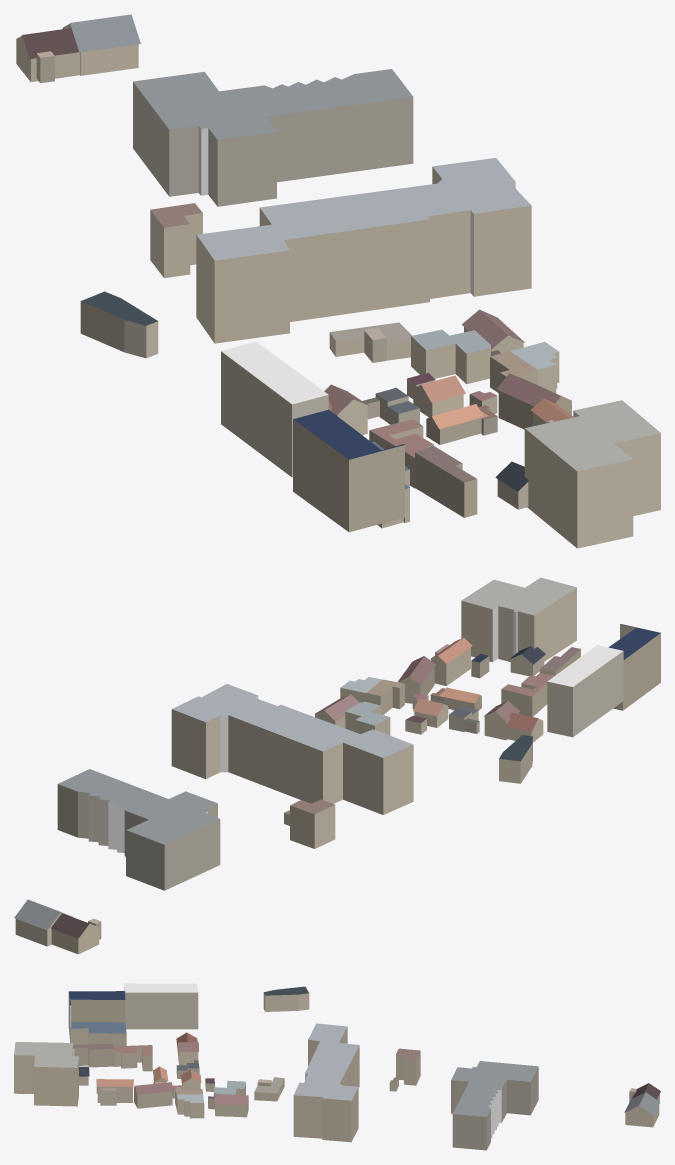
3 renders of one model, top to bottom at view 1: azimuth 30°, elevation 25°; view 2: azimuth 150°, elevation 25°; view 3: azimuth 270°, elevation 25°, orthographic. The views are drawn at different scales.
Visible parts, largest first — view 1: tuile; view 2: tuile; view 3: tuile.
Part boxes in pixels (x1=…): tuile: x1=16, y1=14, x2=660, y2=548; tuile: x1=14, y1=577, x2=660, y2=954; tuile: x1=14, y1=983, x2=660, y2=1150.
Size of the model in its own units: 110 by 24.3 by 250.
